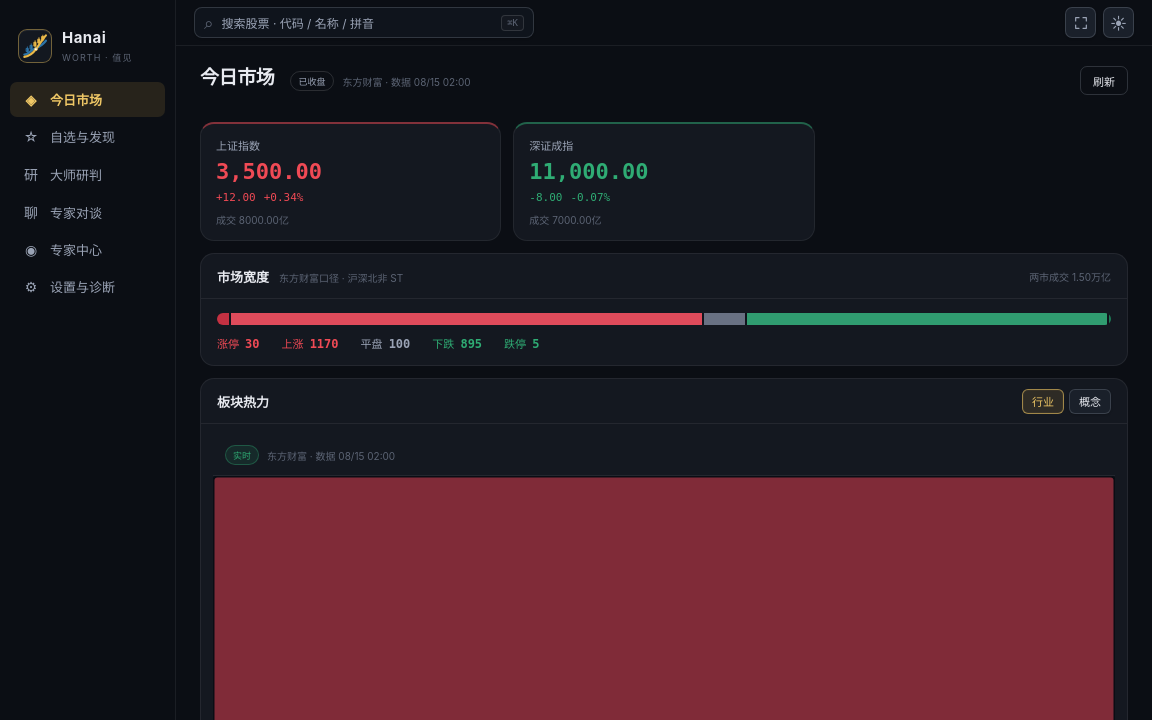
HanaiWorkbench old-client parity › keeps the original navigation and adds expert chat with hash history under the Hanai Worth brand
Expected: the heading "今日市场" is shown, top-left (200, 66), bottom-right (274, 90)
Expected: the button labelled "Hanai WORTH · 值见" is shown, top-left (10, 14), bottom-right (165, 82)
Click the button "☆ 自选与发现" at (88, 136), box top-left (10, 119), bottom-right (165, 154)
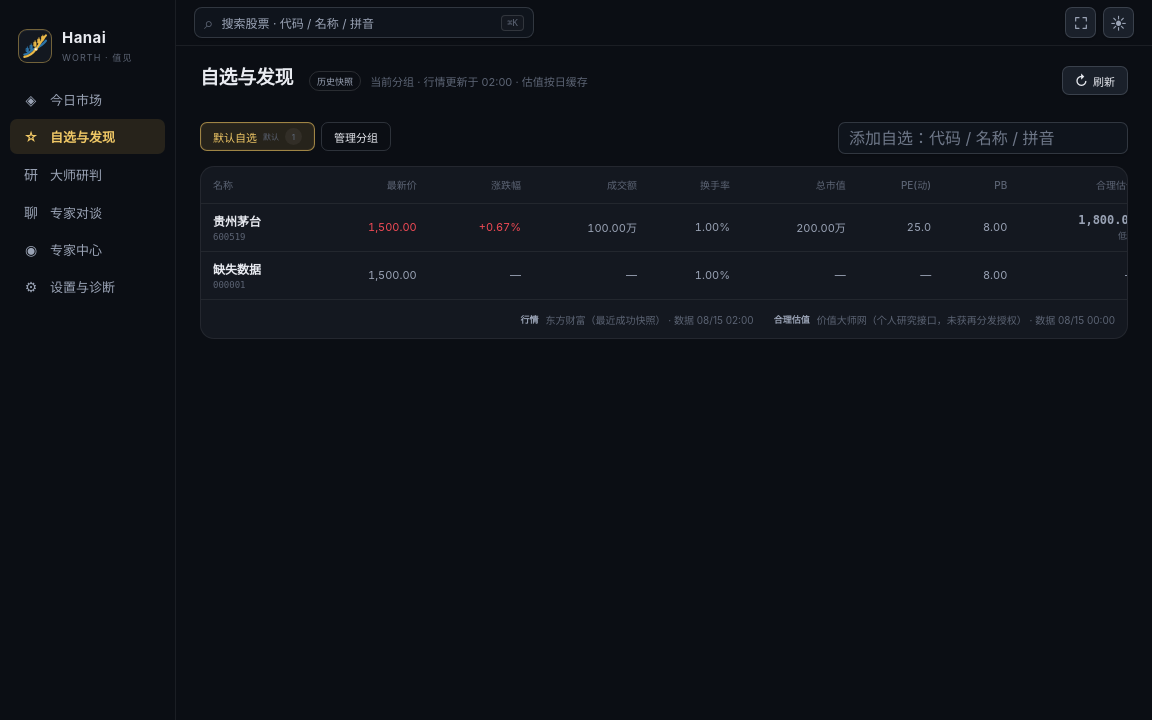
Expected: the heading "自选与发现" is shown, top-left (200, 66), bottom-right (293, 90)
